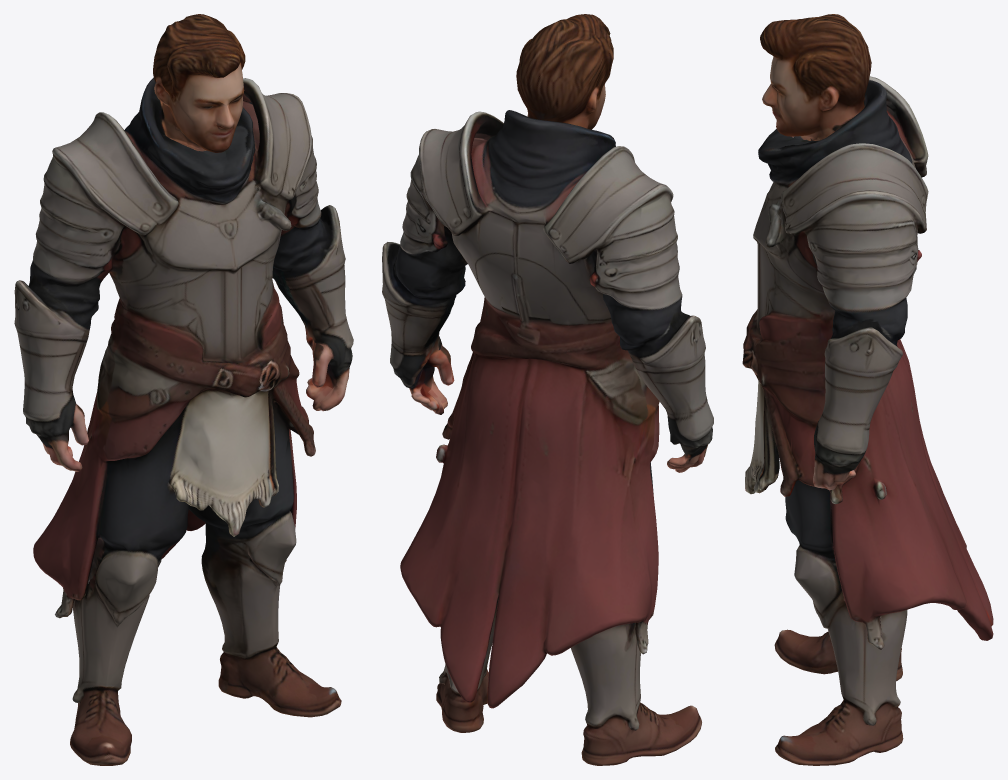
File: player.glb
3 renders of one model, left to right at view 1: azimuth 30°, elevation 25°; view 2: azimuth 150°, elevation 25°; view 3: azimuth 270°, elevation 25°, orthographic. The views are drawn at different scales.
Visible parts, largest first — view 1: node0; view 2: node0; view 3: node0.
Part boxes in pixels (box(x1,y1,x2,y2)): node0: box(14, 14, 353, 765); node0: box(382, 14, 713, 765); node0: box(742, 14, 993, 765).
Bounding box in the file's own units: 0.4486 × 0.9475 × 0.311.
Materials: 1 (1 with a texture image).
